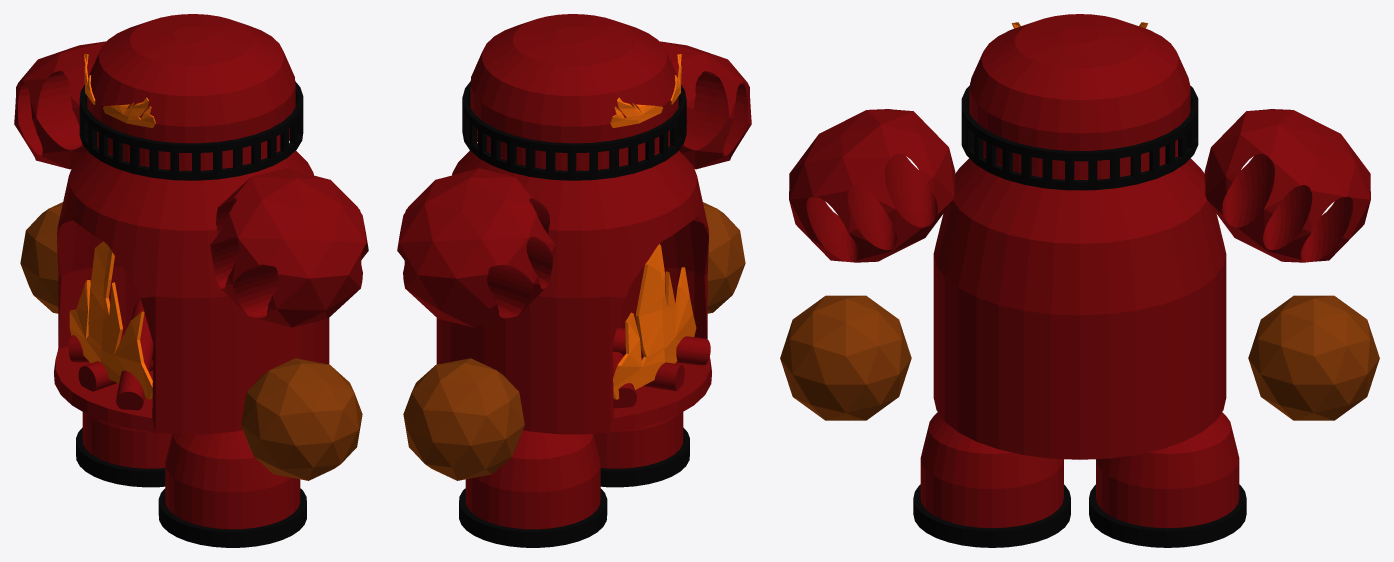
File: Character 1_Exported.fbx
3 views of the same model, side by side, from view 1: azimuth 30°, elevation 25°; view 2: azimuth 150°, elevation 25°; view 3: azimuth 270°, elevation 25° (orthographic). The views are drawn at different scales.
Visible parts, largest first — view 1: character 1; view 2: character 1; view 3: character 1.
Part boxes in pixels (x1=…): character 1: x1=14, y1=14, x2=368, y2=547; character 1: x1=397, y1=14, x2=751, y2=547; character 1: x1=780, y1=14, x2=1379, y2=547.
Bounding box in the file's own units: 200 × 410 × 362.
Materials: 1 (1 with a texture image).
